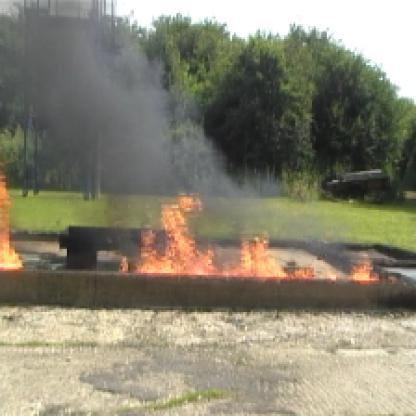Fire: (115, 199, 386, 280), (2, 164, 28, 271)
Smoke: (2, 2, 193, 195)
